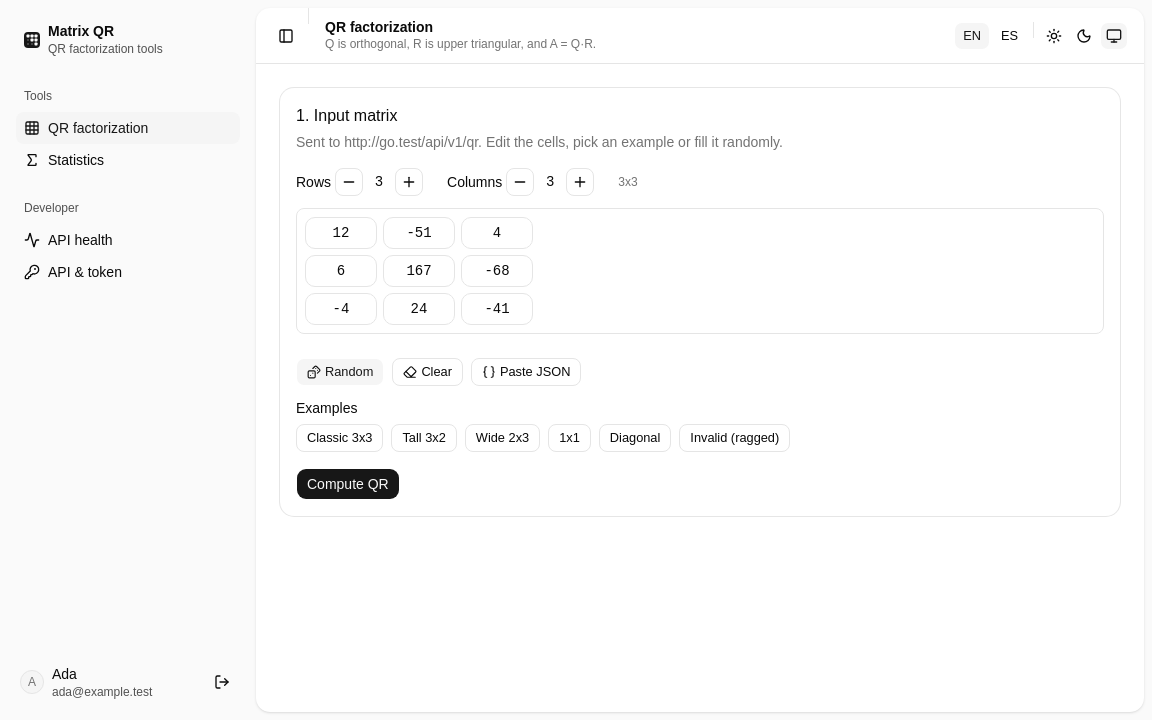
Scenario: QR results survive the SDK loading flag › shows Q, R, the four statistics and the diagonal badges for the classic 3x3
Click the button "Compute QR": (348, 484) [296,468,400,500]
(page scrolled)
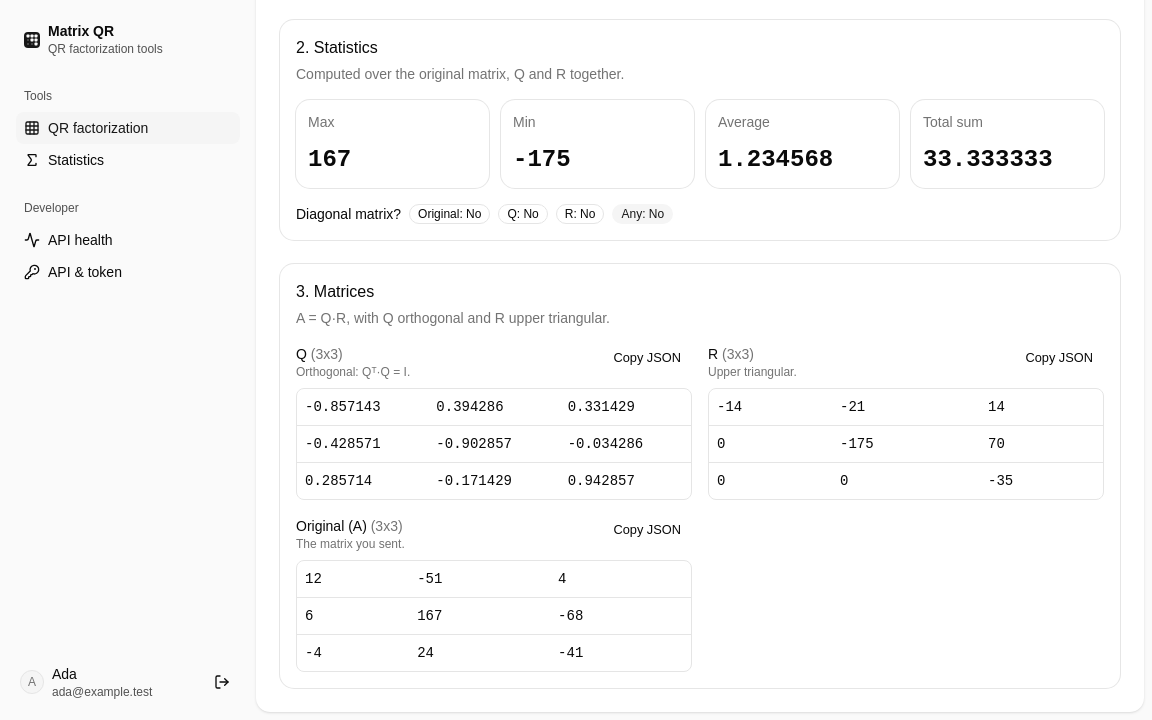
Check: the text "Max" is shown, box [308,114,334,130]
Check: the text "Min" is shown, box [513,114,536,130]
Check: the text "Average" is shown, box [718,114,770,130]
